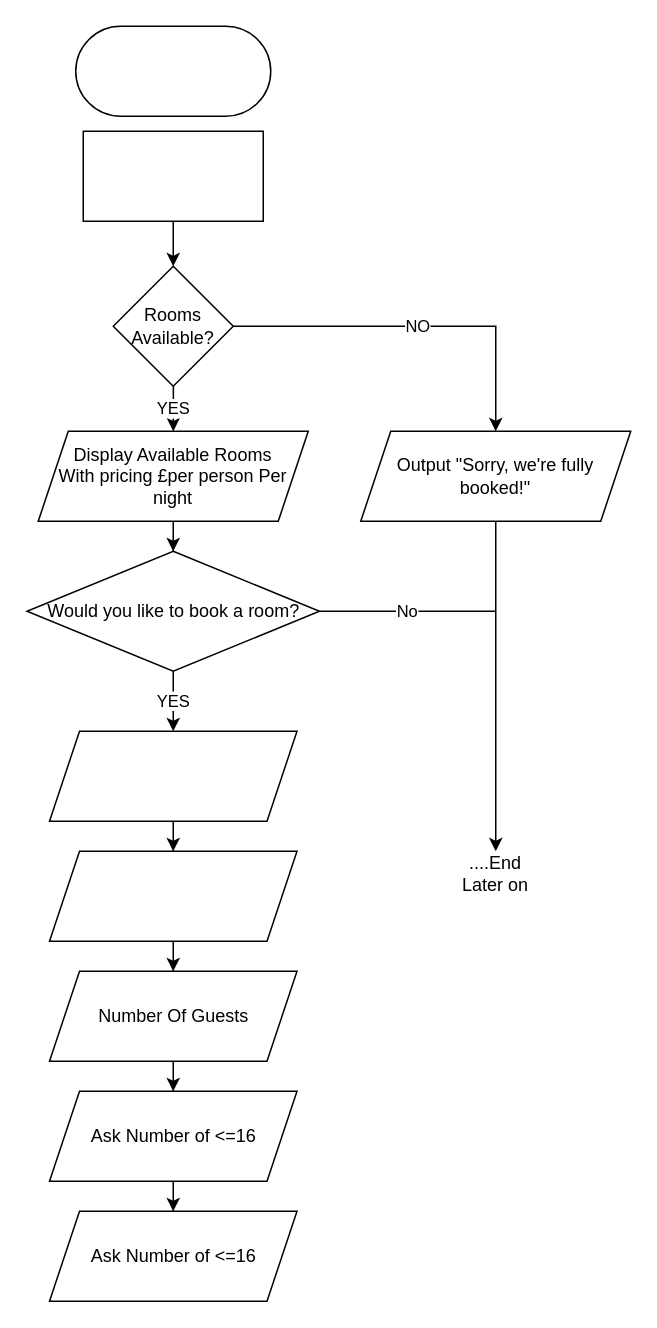
Some shapes in this 657 by 1328 pixel diagram are drawn without their labels. Here are the shapes that lost their labels. From the top down, the box of each, then its label:
(74, 25, 271, 116): Start
(82, 130, 263, 221): Check If rooms available
(48, 730, 297, 821): Get Main User Name
(48, 850, 297, 941): Get Main User DOB
